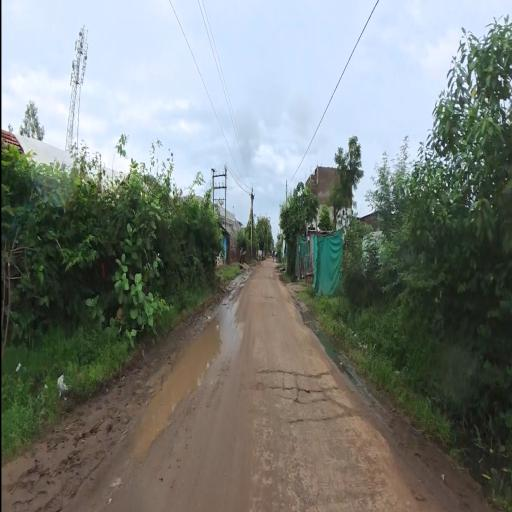longitudinal_crack: (243, 296, 369, 459)
